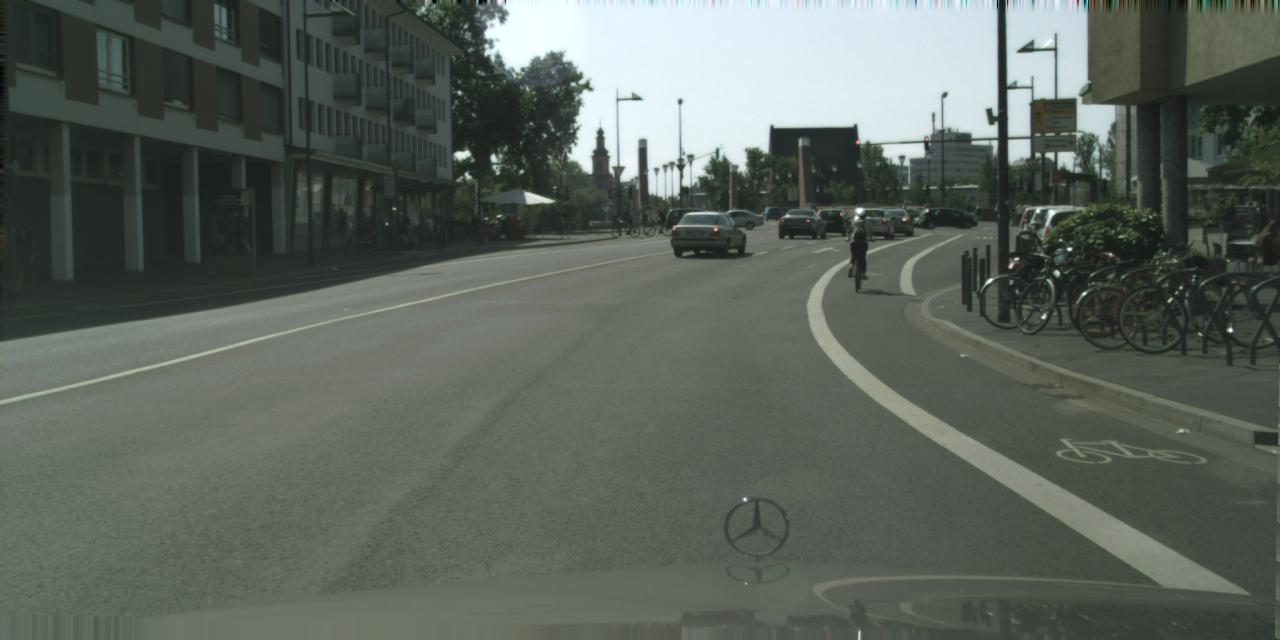ped: (844, 206, 872, 278), (9, 225, 37, 294), (400, 218, 418, 250), (621, 206, 632, 233), (1018, 201, 1032, 220), (963, 199, 973, 224), (657, 210, 665, 230), (1009, 202, 1014, 222), (995, 205, 997, 222)
